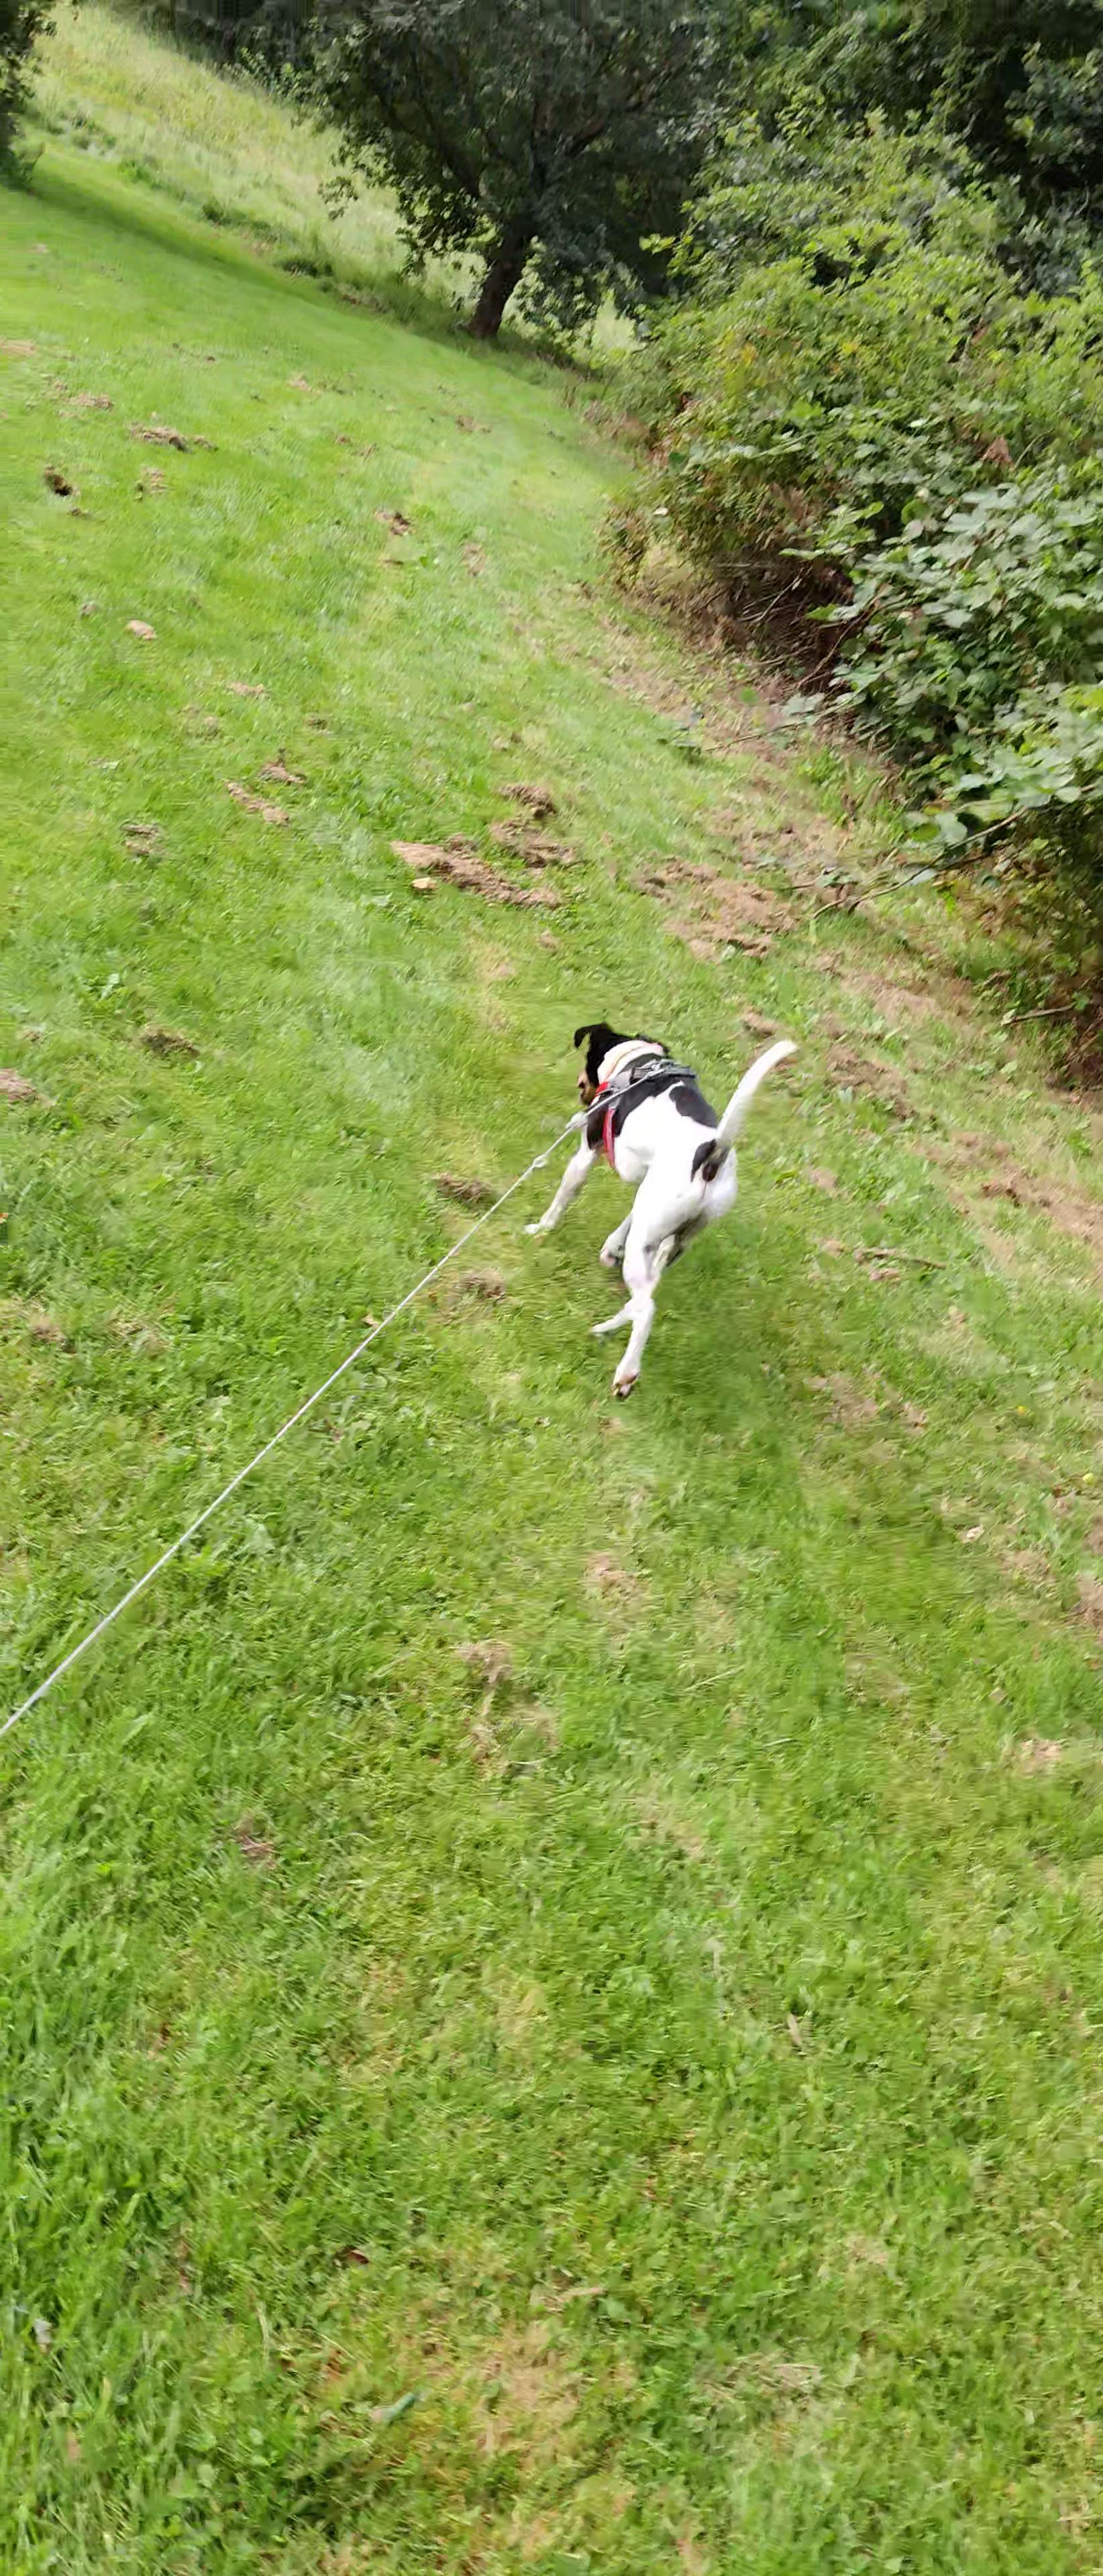Dog: (518, 1020, 797, 1401)
